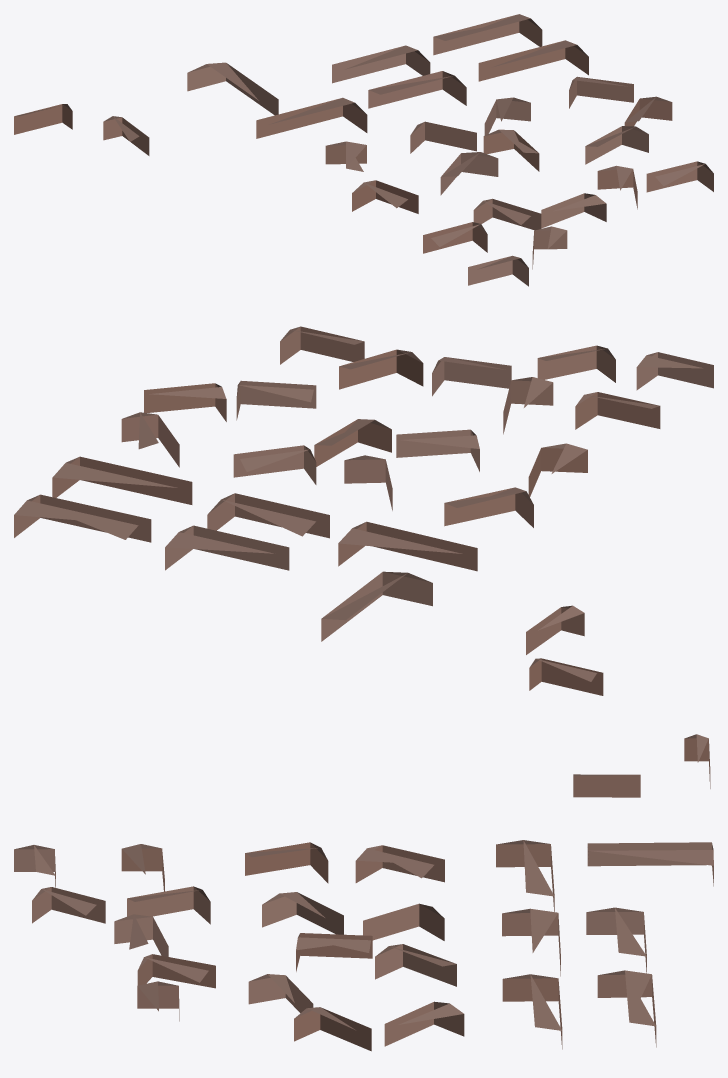
Rendered from c_1642_17835_buildings_residential.glb.
The picture shows the model from 3 angles, top to bottom: view 1: azimuth 30°, elevation 25°; view 2: azimuth 150°, elevation 25°; view 3: azimuth 270°, elevation 25°; orthographic projection. The views are drawn at different scales.
Parts seen in each view (by area): view 1: geometry_0; view 2: geometry_0; view 3: geometry_0.
Boxes of the visible parts, <box> form: geometry_0: <box>14,14,713,286</box>; geometry_0: <box>14,326,713,695</box>; geometry_0: <box>14,734,713,1051</box>.
Size of the model in its own units: 256 by 10.68 by 250.
